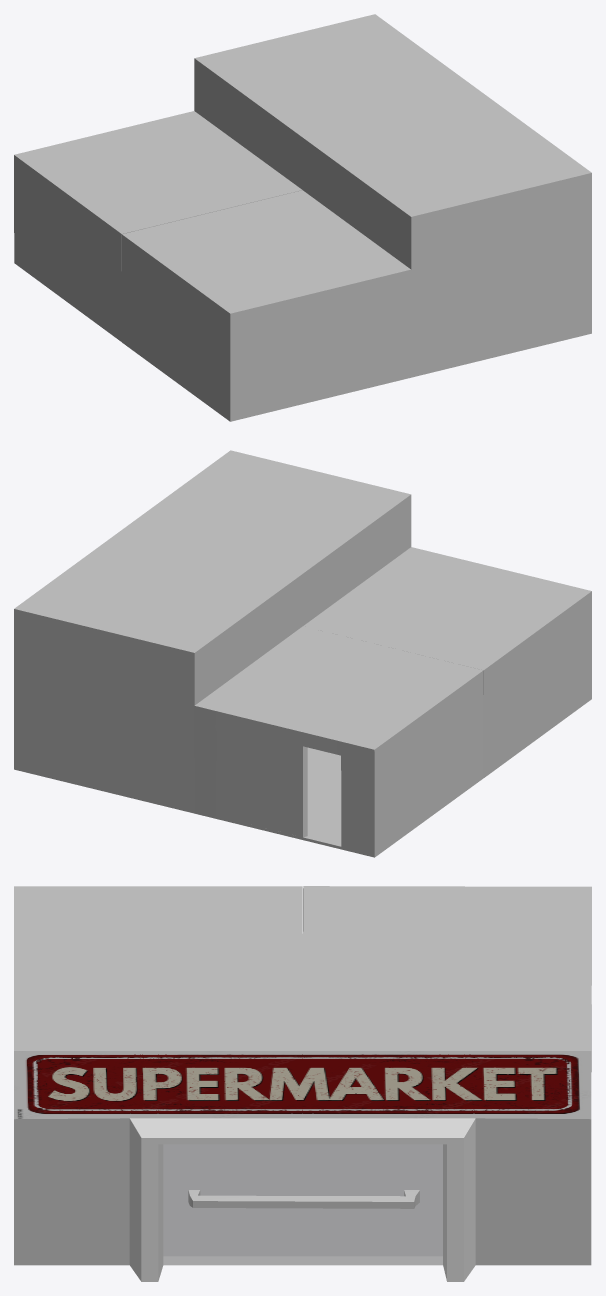
Rendered from conveniencestore 1.fbx.
3 renders of one model, top to bottom at view 1: azimuth 30°, elevation 25°; view 2: azimuth 150°, elevation 25°; view 3: azimuth 270°, elevation 25°, orthographic. The views are drawn at different scales.
Parts seen in each view (by area): view 1: pCube12; view 2: pCube12; view 3: pCube12.
Boxes of the visible parts, x1,y1,x2,y2 form: pCube12: (14,14,591,421); pCube12: (14,450,591,857); pCube12: (14,886,591,1281).
Size of the model in its own units: 1161 by 461 by 1127.
